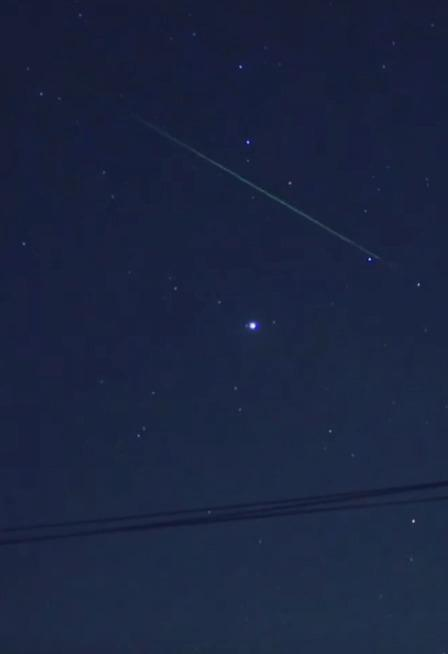meteorite: (189, 163, 389, 273)
